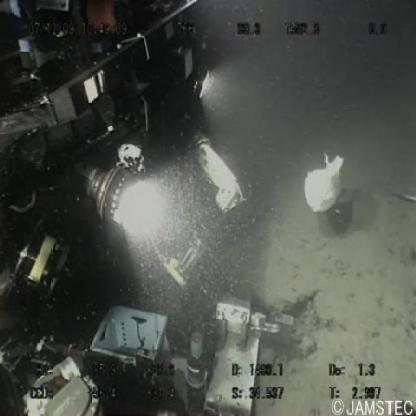Rov: (1, 1, 328, 414)
Rác: (299, 146, 348, 219)
